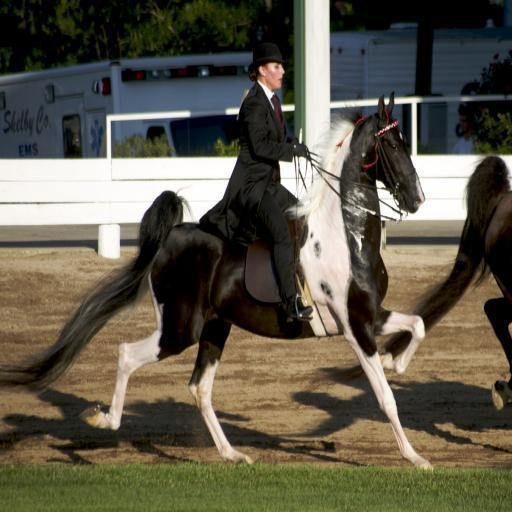horse: (1, 90, 436, 479), (307, 152, 512, 414)
